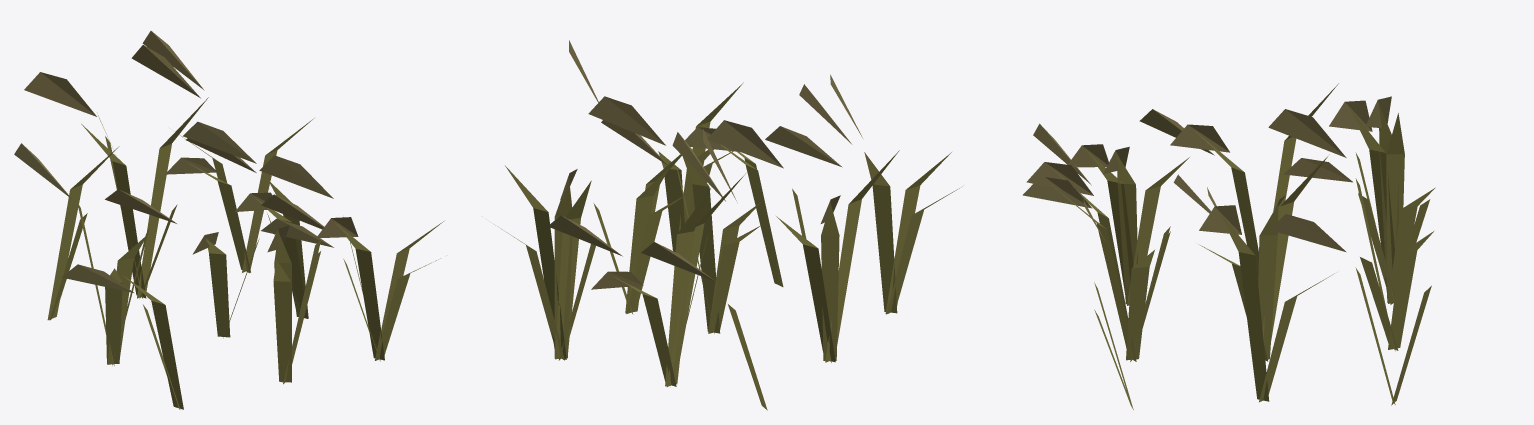
File: rice_ripe.glb
3 views of the same model, side by side, from view 1: azimuth 30°, elevation 25°; view 2: azimuth 150°, elevation 25°; view 3: azimuth 270°, elevation 25° (orthographic). The views are drawn at different scales.
Parts seen in each view (by area): view 1: rice_ripe; view 2: rice_ripe; view 3: rice_ripe.
Part boxes in pixels (<box>): rice_ripe: <box>14,31,443,409</box>; rice_ripe: <box>489,40,962,410</box>; rice_ripe: <box>1023,83,1435,409</box>.
Bounding box in the file's own units: 1.23 × 0.7599 × 1.33.
